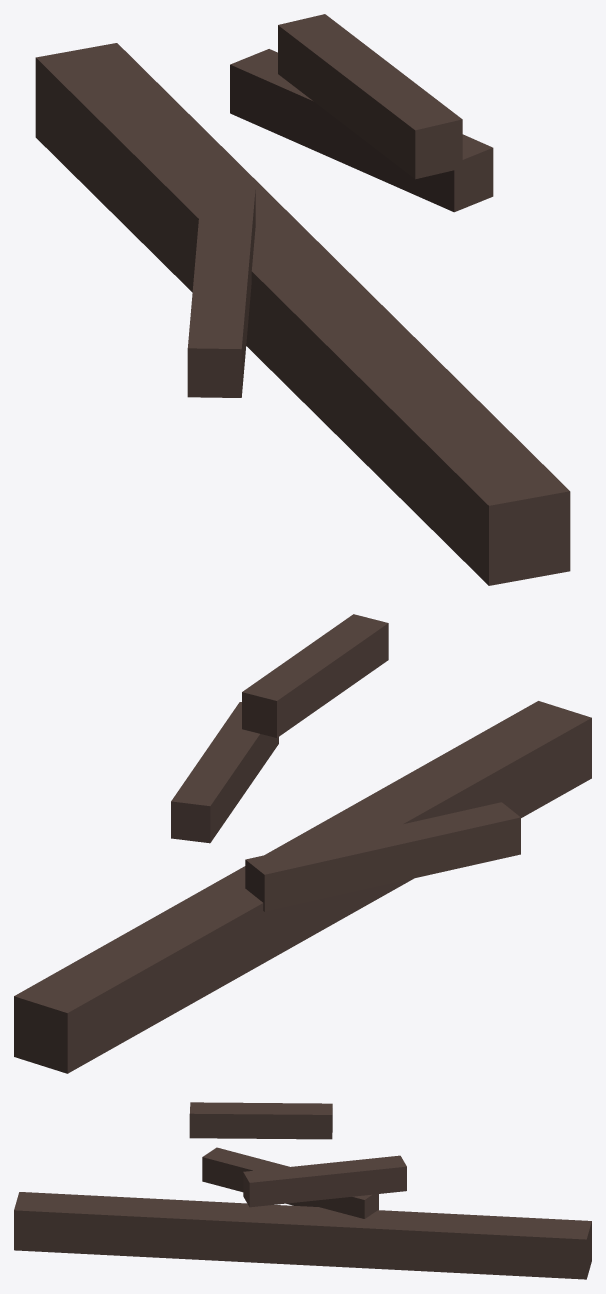
The model's file is EXTW_SouthTree_01.glb.
The picture shows the model from 3 angles, top to bottom: view 1: azimuth 30°, elevation 25°; view 2: azimuth 150°, elevation 25°; view 3: azimuth 270°, elevation 25°; orthographic projection. The views are drawn at different scales.
Parts seen in each view (by area): view 1: EXTW_SouthTree_01; view 2: EXTW_SouthTree_01; view 3: EXTW_SouthTree_01.
Boxes of the visible parts, box(x1,y1,x2,y2) form: EXTW_SouthTree_01: box(35, 14, 570, 585); EXTW_SouthTree_01: box(14, 614, 591, 1073); EXTW_SouthTree_01: box(14, 1102, 591, 1279).
Bounding box in the file's own units: 0.7956 × 0.689 × 2.35.
